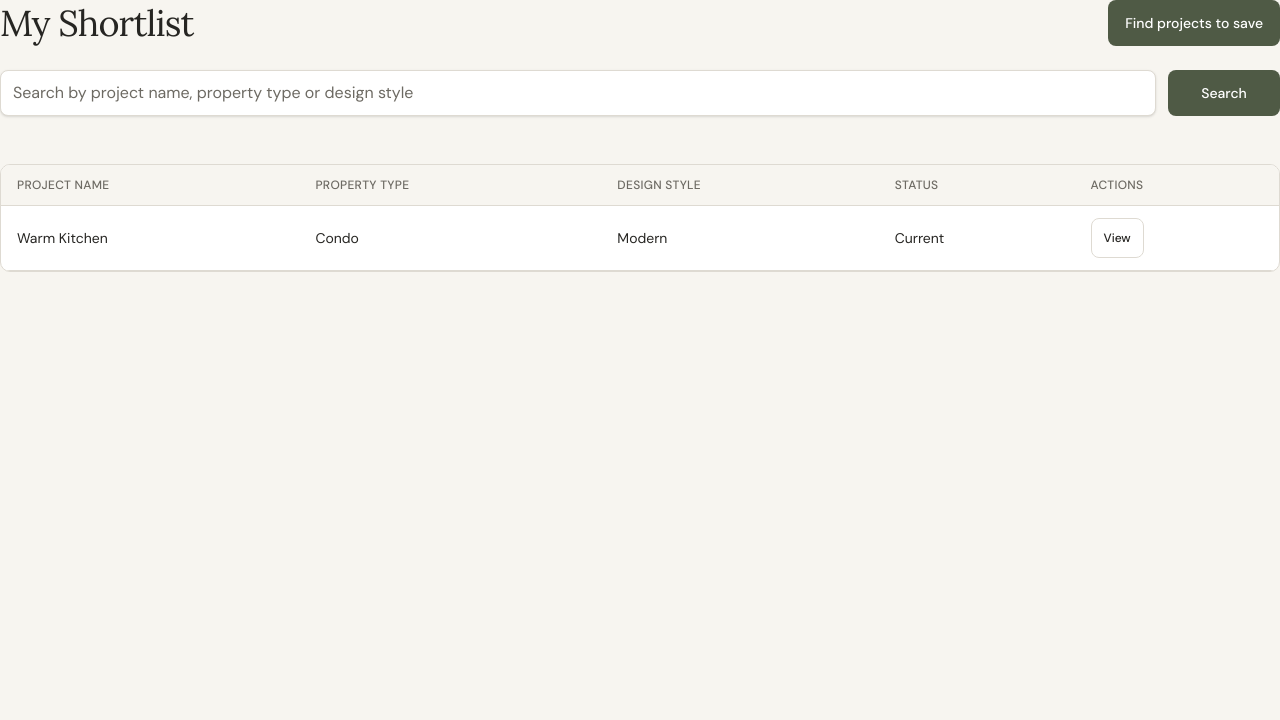
Scenario: View: the pop-up shows the error if the project cannot load
Click the button "View". click: (1117, 238)
box: [1090,218,1144,258]
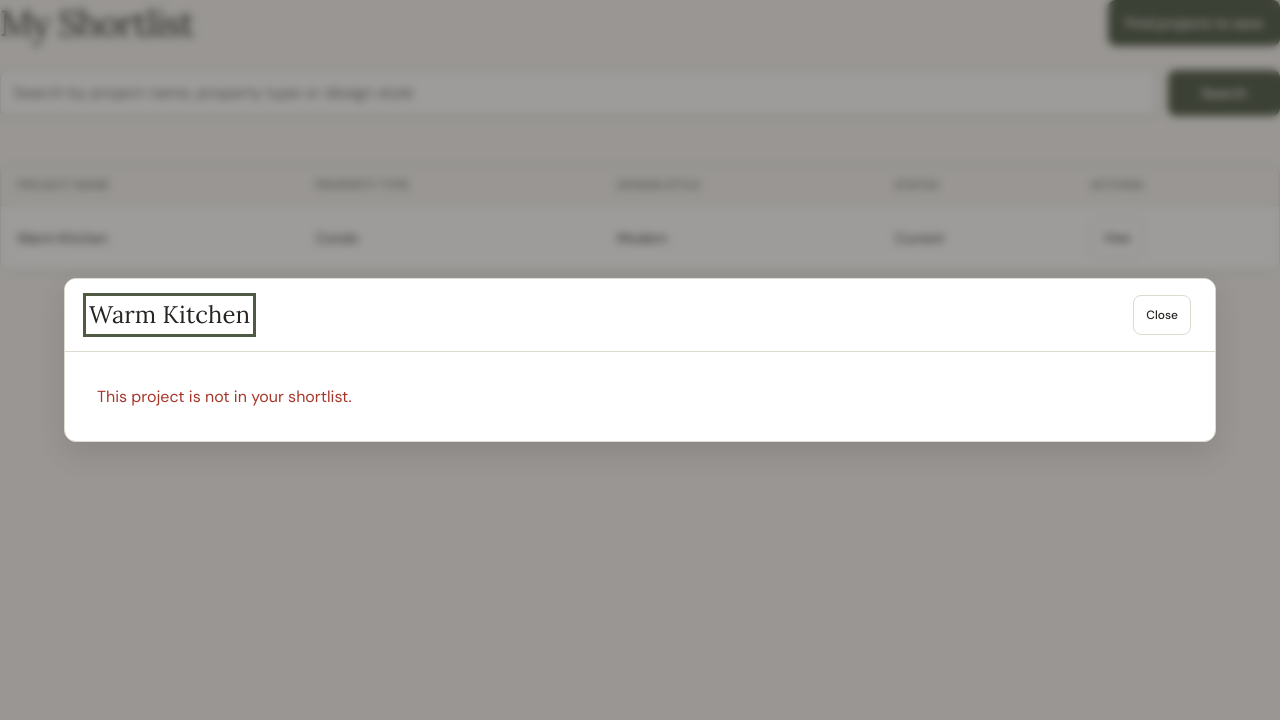
Expected: the message reads "This project is not in your shortlist.", [97,386,352,407]
